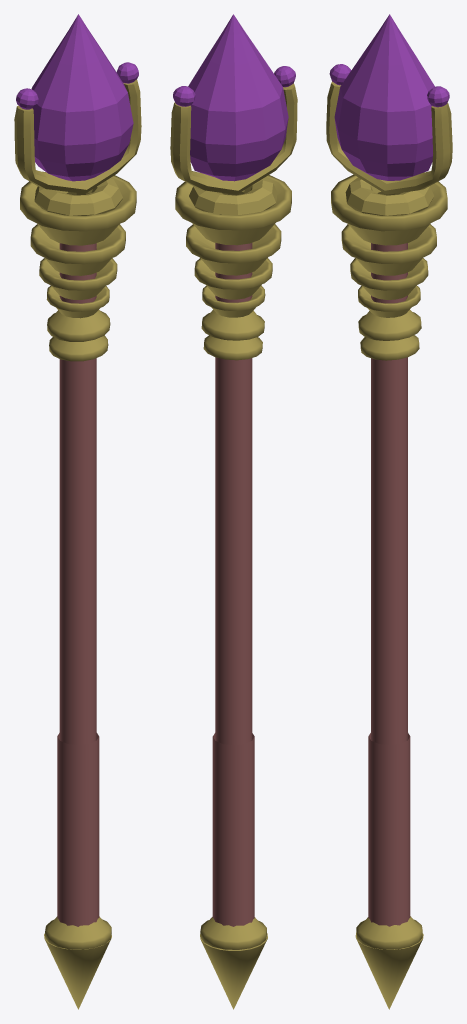
Rendered from Soporte.fbx.
3 views of the same model, side by side, from view 1: azimuth 30°, elevation 25°; view 2: azimuth 210°, elevation 25°; view 3: azimuth 330°, elevation 25° (orthographic).
Visible parts, largest first — view 1: BodyLow, polySurface1, HandleLow, Guard, polySurface4, Guard1, pTorus1, pCone1, Guard2, Guard6, Guard4, Guard5 (+3 smaller); view 2: BodyLow, polySurface1, HandleLow, polySurface4, Guard, Guard1, pTorus1, pCone1, Guard2, Guard6, Guard4, Guard5 (+3 smaller); view 3: BodyLow, polySurface1, HandleLow, Guard, polySurface4, Guard1, pTorus1, pCone1, Guard2, Guard6, Guard4, Guard5 (+3 smaller).
Part boxes in pixels (left/top/right/bottom): BodyLow: left=59, top=243, right=96, bottom=744; polySurface1: left=31, top=14, right=133, bottom=181; HandleLow: left=57, top=733, right=99, bottom=926; Guard: left=20, top=175, right=136, bottom=245; polySurface4: left=14, top=79, right=141, bottom=193; Guard1: left=30, top=224, right=125, bottom=275; pTorus1: left=34, top=178, right=122, bottom=215; pCone1: left=44, top=933, right=111, bottom=1009; Guard2: left=39, top=258, right=117, bottom=299; Guard6: left=45, top=916, right=111, bottom=949; Guard4: left=47, top=310, right=110, bottom=341; Guard5: left=49, top=335, right=108, bottom=361; BodyLow: left=215, top=243, right=252, bottom=745; polySurface1: left=188, top=14, right=288, bottom=181; HandleLow: left=212, top=733, right=254, bottom=926; polySurface4: left=170, top=83, right=297, bottom=194; Guard: left=175, top=175, right=291, bottom=245; Guard1: left=186, top=224, right=281, bottom=275; pTorus1: left=189, top=177, right=277, bottom=214; pCone1: left=200, top=933, right=267, bottom=1009; Guard2: left=194, top=258, right=272, bottom=299; Guard6: left=200, top=917, right=266, bottom=949; Guard4: left=201, top=309, right=264, bottom=340; Guard5: left=203, top=335, right=262, bottom=360; BodyLow: left=371, top=243, right=407, bottom=744; polySurface1: left=334, top=14, right=434, bottom=180; HandleLow: left=368, top=733, right=410, bottom=926; Guard: left=331, top=174, right=447, bottom=245; polySurface4: left=326, top=81, right=452, bottom=194; Guard1: left=341, top=224, right=436, bottom=275; pTorus1: left=345, top=177, right=433, bottom=215; pCone1: left=355, top=933, right=423, bottom=1009; Guard2: left=350, top=258, right=428, bottom=299; Guard6: left=356, top=916, right=422, bottom=949; Guard4: left=358, top=310, right=421, bottom=340; Guard5: left=360, top=335, right=419, bottom=360.
Size of the model in its own units: 10.23 by 80.19 by 8.58.
